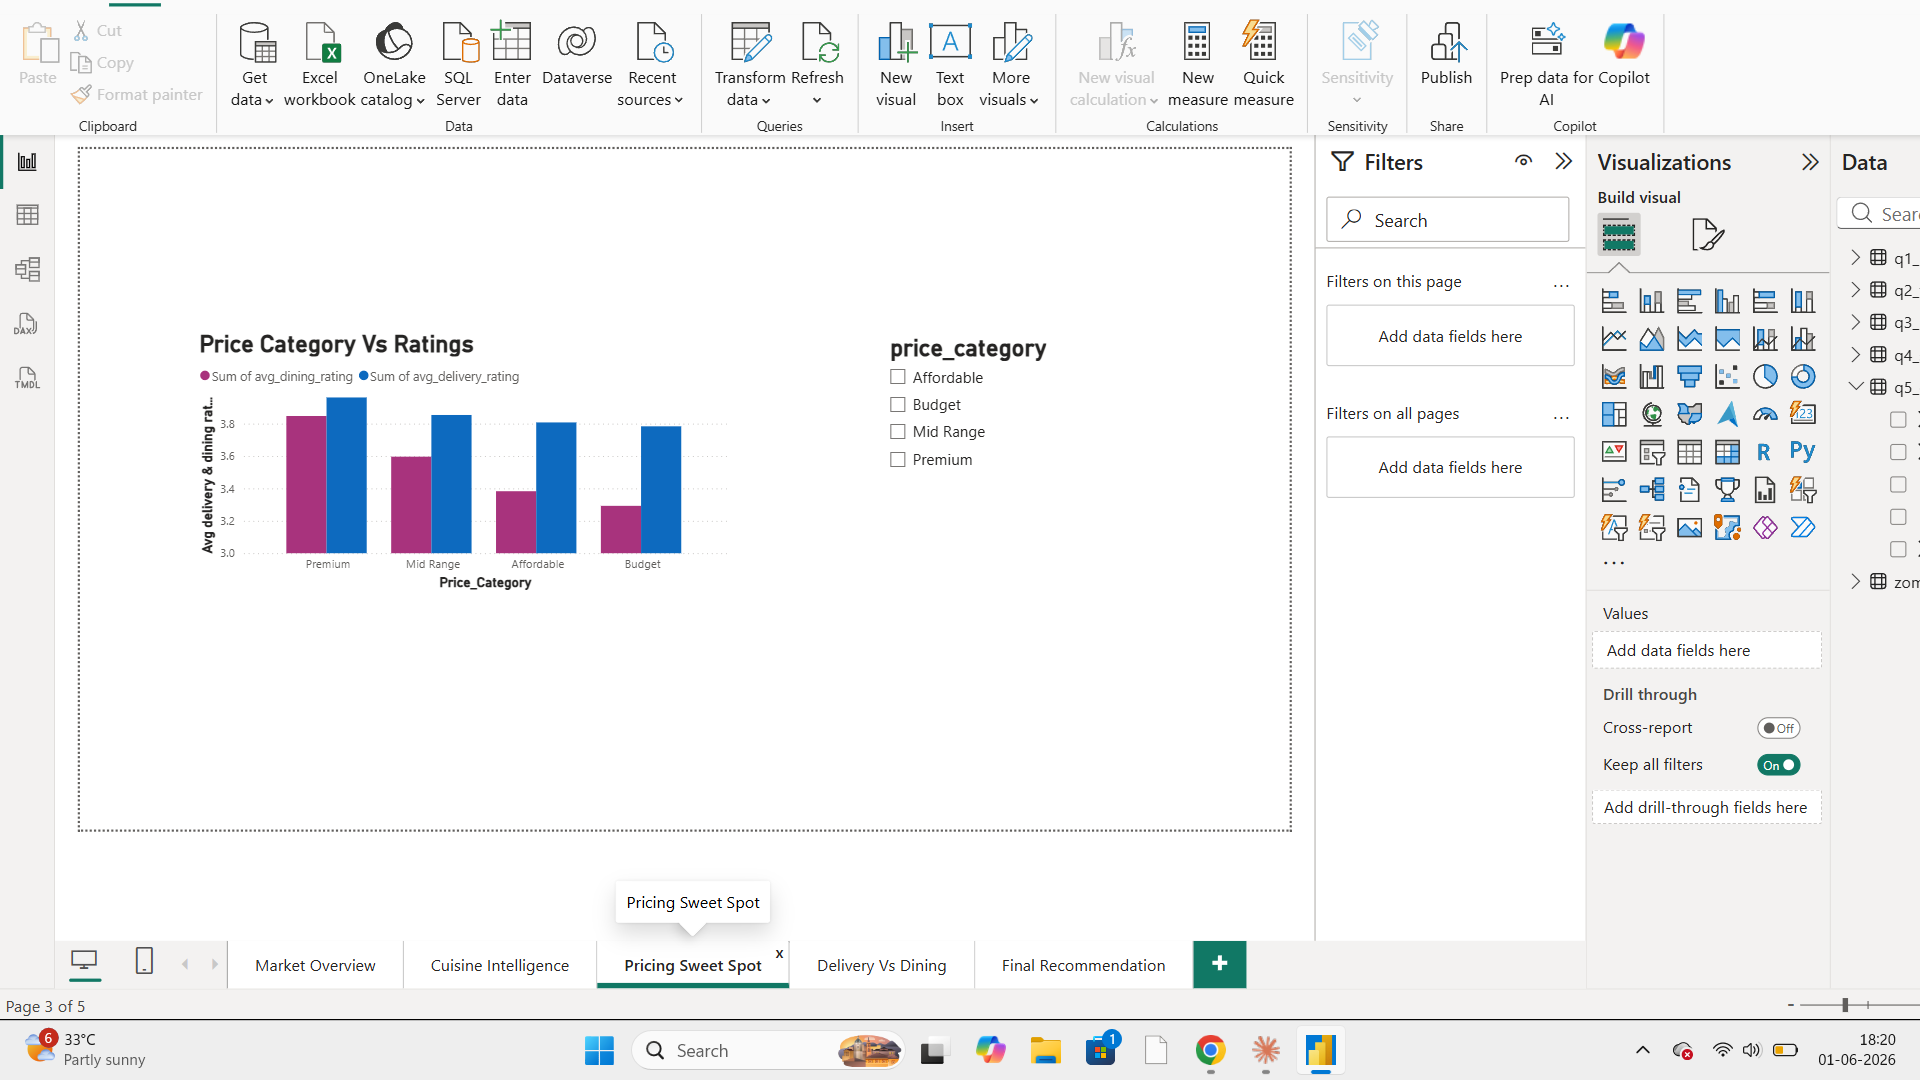

This screenshot's page, from the dashboard's own definition file:
{"tool":"powerbi","page":{"name":"Pricing Sweet Spot","canvas":[1280,720],"ordinal":2},"visuals":[{"type":"clusteredColumnChart","title":"Price Category Vs Ratings","fields":{"Category":["q3_price_category csv.price_category"],"Y":["Sum(q3_price_category csv.avg_dining_rating)","Sum(q3_price_category csv.avg_delivery_rating)"]},"box":[120.8,190.7,568.1,279.9],"z":0},{"type":"slicer","fields":{"Values":["q3_price_category csv.price_category"]},"box":[843.9,190.7,279.9,279.9],"z":1000}]}

Visuals, with their boxes on the page's 1280x720 design canvas (x1, y1, x2, y2). These are canvas units, not pixel positions in the 1920x1080 screenshot, which may show the page scaled, cropped or inside an application window:
"Price Category Vs Ratings" clusteredColumnChart: x1=121 y1=191 x2=689 y2=471
slicer - q3_price_category csv.price_category: x1=844 y1=191 x2=1124 y2=471
